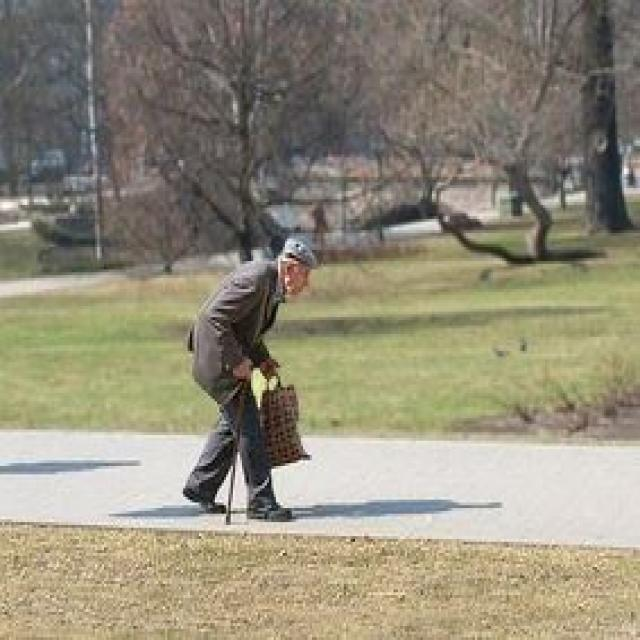idoso em pe: (173, 235, 334, 522)
